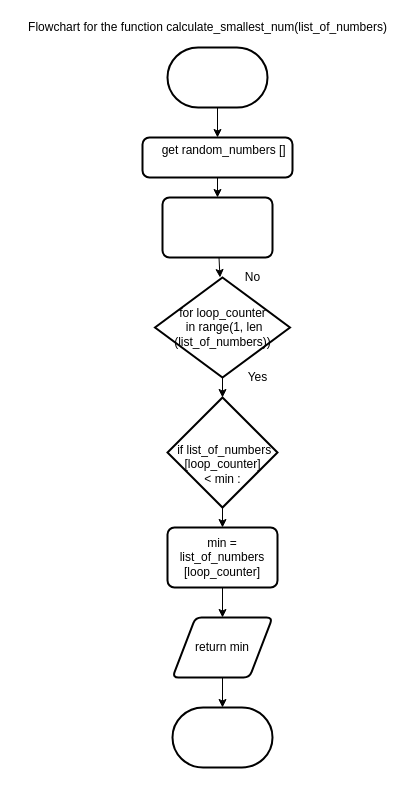
Some shapes in this 414 by 785 pixel diagram are drawn without their labels. The shapes that lost their labels are listed below. From the top down, each one's centre as x and y in pixels, then its label:
At [217,77]: "Start".
At [217,227]: "min = list_of_numbers[0]".
At [222,737]: "Stop".
